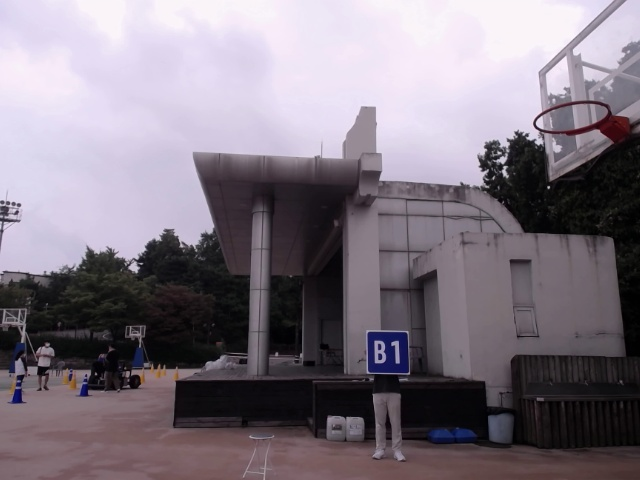delivery_b1: (366, 330, 410, 374)
